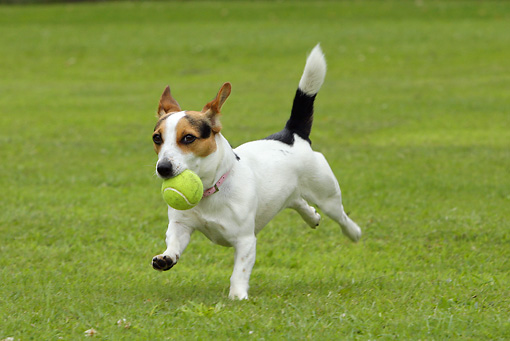tennis_ball: (157, 169, 204, 209)
